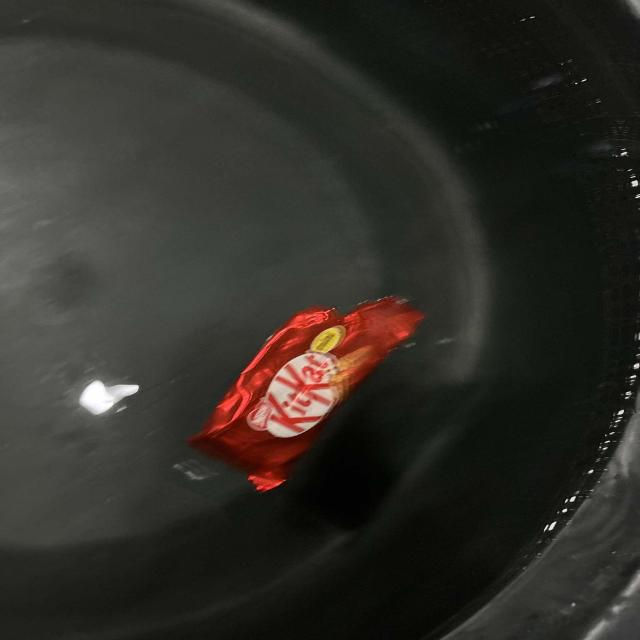Plastic Wrapper: (155, 276, 456, 502)
